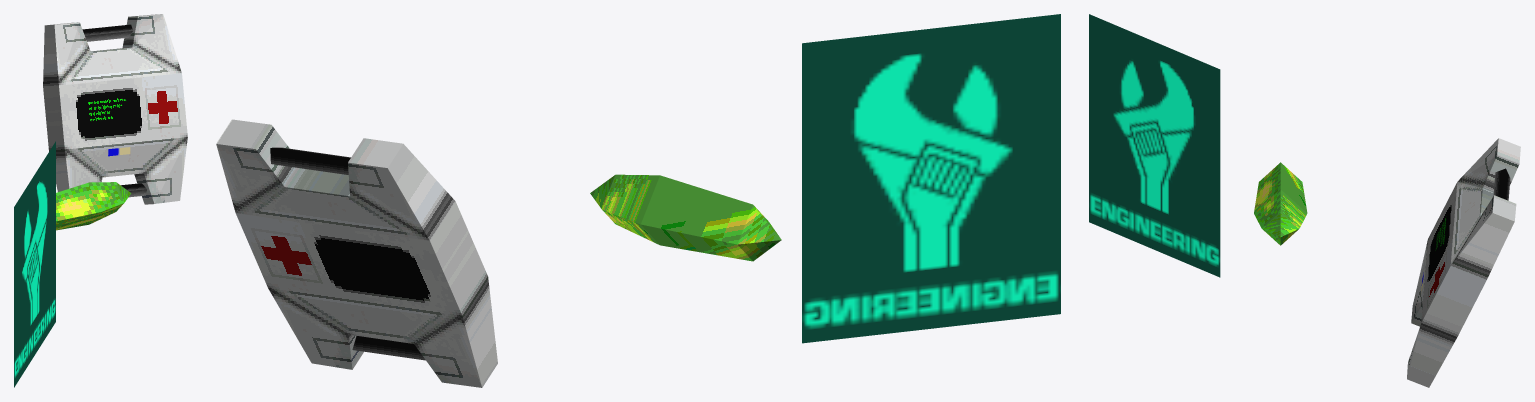
Rendered from engicon.glb.
3 views of the same model, side by side, from view 1: azimuth 30°, elevation 25°; view 2: azimuth 150°, elevation 25°; view 3: azimuth 270°, elevation 25° (orthographic). The views are drawn at different scales.
Parts seen in each view (by area): view 1: Box03, Plane, Capsule; view 2: Plane, Box03, Capsule; view 3: Plane, Box03, Capsule.
Boxes of the visible parts, box(x1,y1,x2,y2) form: Box03: box(43, 14, 187, 204); Plane: box(14, 141, 55, 387); Capsule: box(56, 182, 131, 230); Plane: box(802, 14, 1060, 343); Box03: box(216, 119, 497, 387); Capsule: box(590, 174, 781, 261); Plane: box(1089, 14, 1220, 277); Box03: box(1407, 138, 1520, 387); Capsule: box(1254, 162, 1307, 245).
Size of the model in its own units: 3.76 by 2 by 3.76.
Materials: 7 (7 with a texture image).
